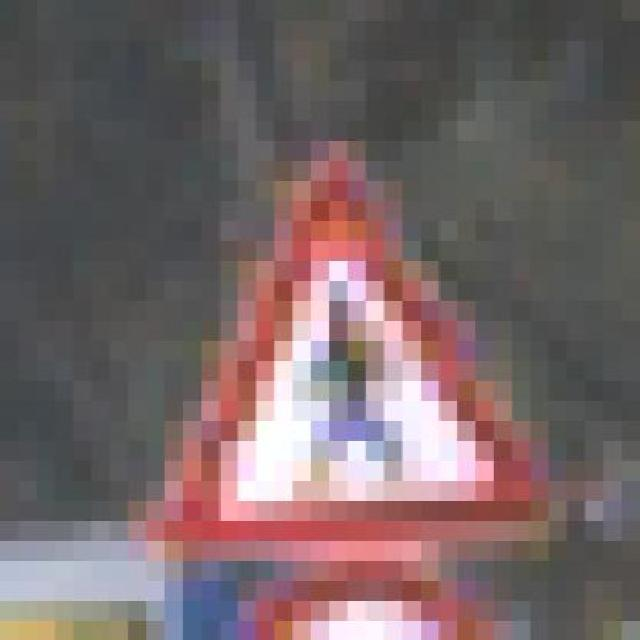Pedestrian Crossing: (110, 120, 567, 560)
